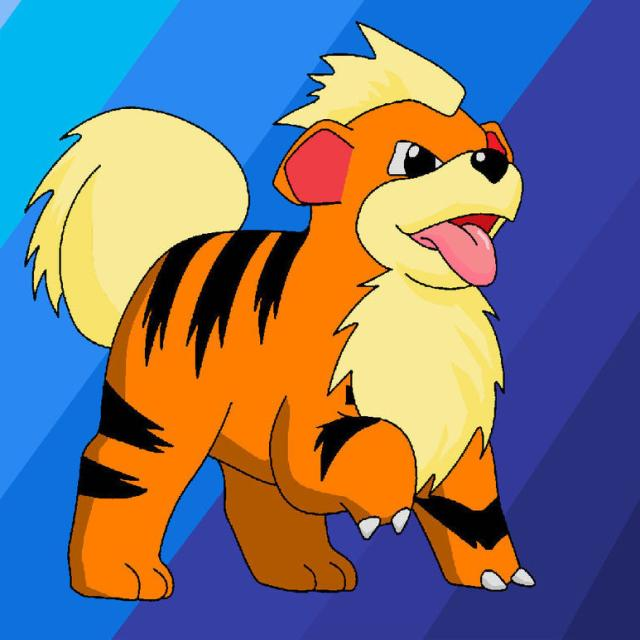Growlithe: (67, 80, 529, 584)
